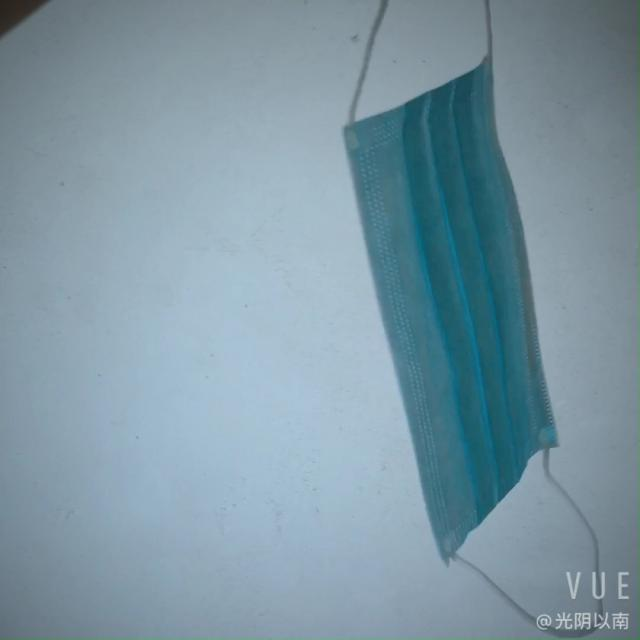face mask: (337, 60, 570, 562)
